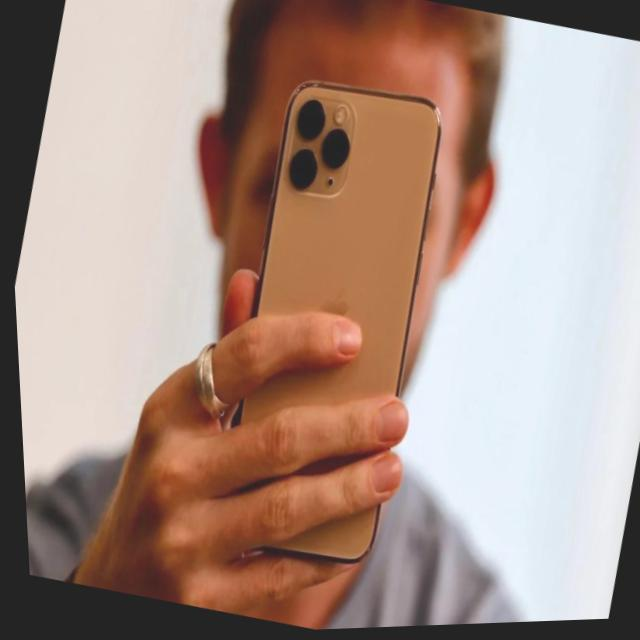Smartphone: (186, 70, 475, 578)
